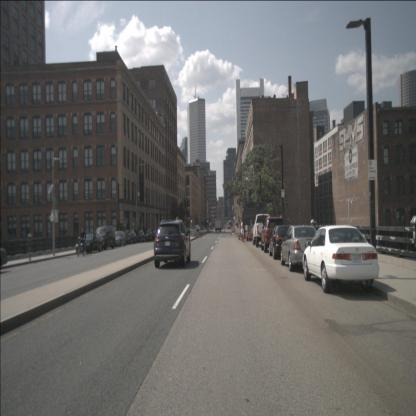movable_object-trafficcone: (242, 223, 246, 242), (241, 221, 244, 241), (238, 223, 241, 238), (236, 226, 240, 235), (238, 228, 241, 240)
vehicle-car: (302, 224, 380, 294), (280, 224, 323, 272), (154, 220, 190, 268), (269, 224, 299, 260), (261, 216, 285, 253), (75, 232, 103, 254), (94, 226, 116, 250), (110, 230, 126, 247), (122, 230, 137, 244), (0, 246, 8, 269), (133, 229, 145, 242), (142, 229, 152, 242), (152, 229, 162, 240), (194, 224, 200, 232)
vehicle-motorcycle: (76, 227, 87, 257)
vehicle-truck: (252, 214, 273, 247), (215, 217, 221, 232)
